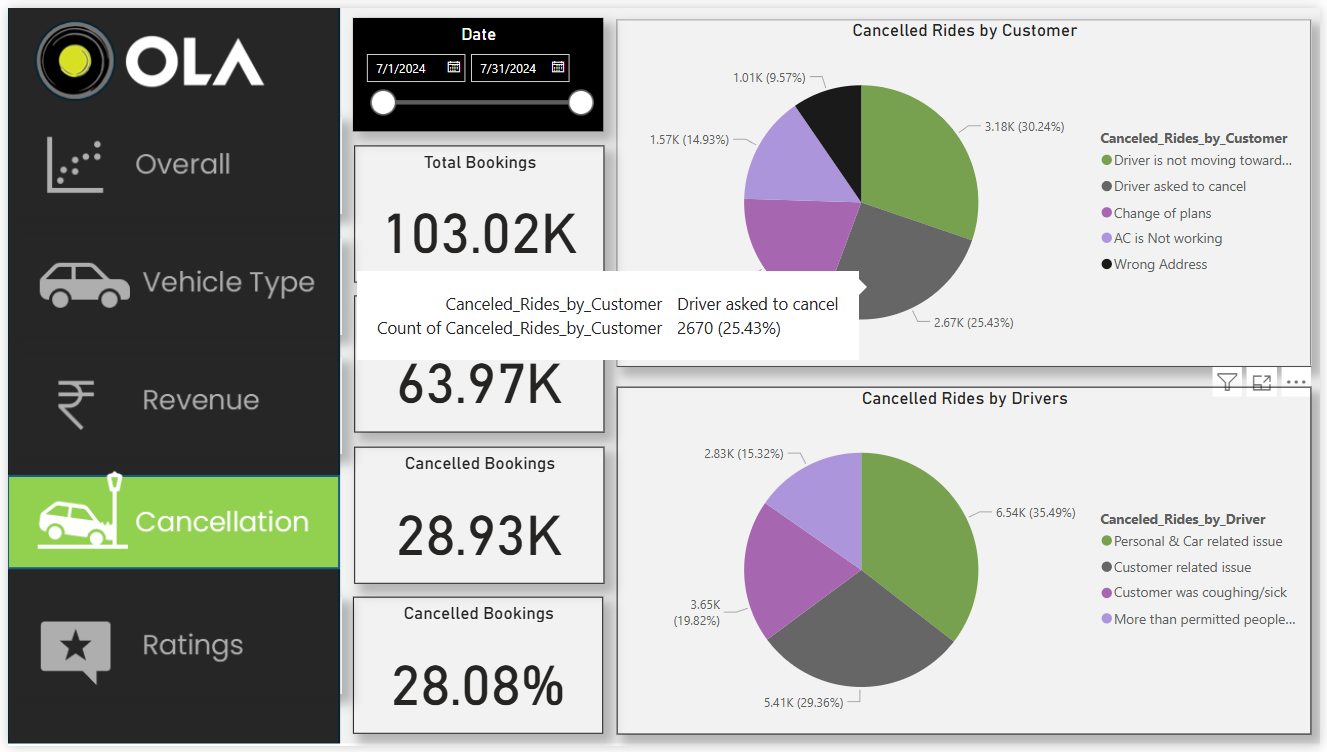

Layout of this report page (visuals, bound fields, positions):
{"tool":"powerbi","page":{"name":"Cancellation","canvas":[1280,720],"ordinal":3},"visuals":[{"type":"actionButton","box":[0,223.8,325.4,94.3],"z":0},{"type":"actionButton","box":[0,339.9,325.4,94.3],"z":1000},{"type":"actionButton","box":[0,574.1,325.4,94.3],"z":2000},{"type":"actionButton","box":[0,105.7,325.4,94.3],"z":3000},{"type":"pieChart","title":"Cancelled Rides by Customer","fields":{"Category":["Ola_bookings.Canceled_Rides_by_Customer"],"Y":["CountNonNull(Ola_bookings.Canceled_Rides_by_Customer)"]},"box":[594.2,11,677.9,338.9],"z":4000},{"type":"pieChart","title":"Cancelled Rides by Drivers","fields":{"Y":["CountNonNull(Ola_bookings.Canceled_Rides_by_Driver)"],"Category":["Ola_bookings.Canceled_Rides_by_Driver"]},"box":[594.2,369.1,677.9,338.9],"z":5000},{"type":"slicer","title":"Date","fields":{"Values":["Ola_bookings.Date"]},"box":[336.6,10.3,244,110.2],"z":6000},{"type":"card","title":"Total Bookings","fields":{"Values":["CountNonNull(Ola_bookings.Booking_Status)"]},"box":[338.1,133.8,244,133.8],"z":7000},{"type":"card","title":"Secceded Bookings","fields":{"Values":["CountNonNull(Ola_bookings.Booking_Status)"]},"box":[338.1,280.8,244,133.8],"z":8000},{"type":"card","title":"Cancelled Bookings","fields":{"Values":["CountNonNull(Ola_bookings.Booking_Status)"]},"box":[338.1,427.7,244,133.8],"z":9000},{"type":"card","title":"Cancelled Bookings","fields":{"Values":["Ola_bookings.CanceledPercentage"]},"box":[336.6,574.7,244,133.8],"z":10000}]}

Visuals, with their boxes in screenshot pixels (x1, y1, x2, y2), scaled from the page's 1280x720 canvas onto the 1327x752 screenshot:
actionButton: <bbox>0, 234, 337, 332</bbox>
actionButton: <bbox>0, 355, 337, 453</bbox>
actionButton: <bbox>0, 600, 337, 698</bbox>
actionButton: <bbox>0, 110, 337, 209</bbox>
"Cancelled Rides by Customer" pieChart: <bbox>616, 11, 1319, 365</bbox>
"Cancelled Rides by Drivers" pieChart: <bbox>616, 386, 1319, 739</bbox>
"Date" slicer: <bbox>349, 11, 602, 126</bbox>
"Total Bookings" card: <bbox>351, 140, 603, 279</bbox>
"Secceded Bookings" card: <bbox>351, 293, 603, 433</bbox>
"Cancelled Bookings" card: <bbox>351, 447, 603, 586</bbox>
"Cancelled Bookings" card: <bbox>349, 600, 602, 740</bbox>
